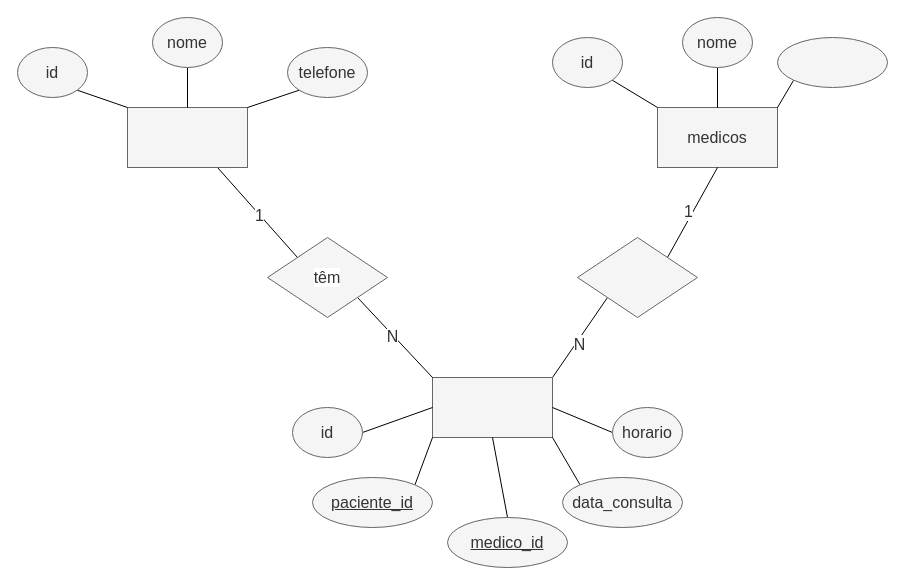
The diagram is 905 pixels wide and 585 high, and some of its shapes have lost their labels. Each missing label, with the centre of its shape:
"consultas" goes at point 492,407.
"especialidade" goes at point 832,62.
"fazem" goes at point 637,277.
"pacientes" goes at point 187,137.
